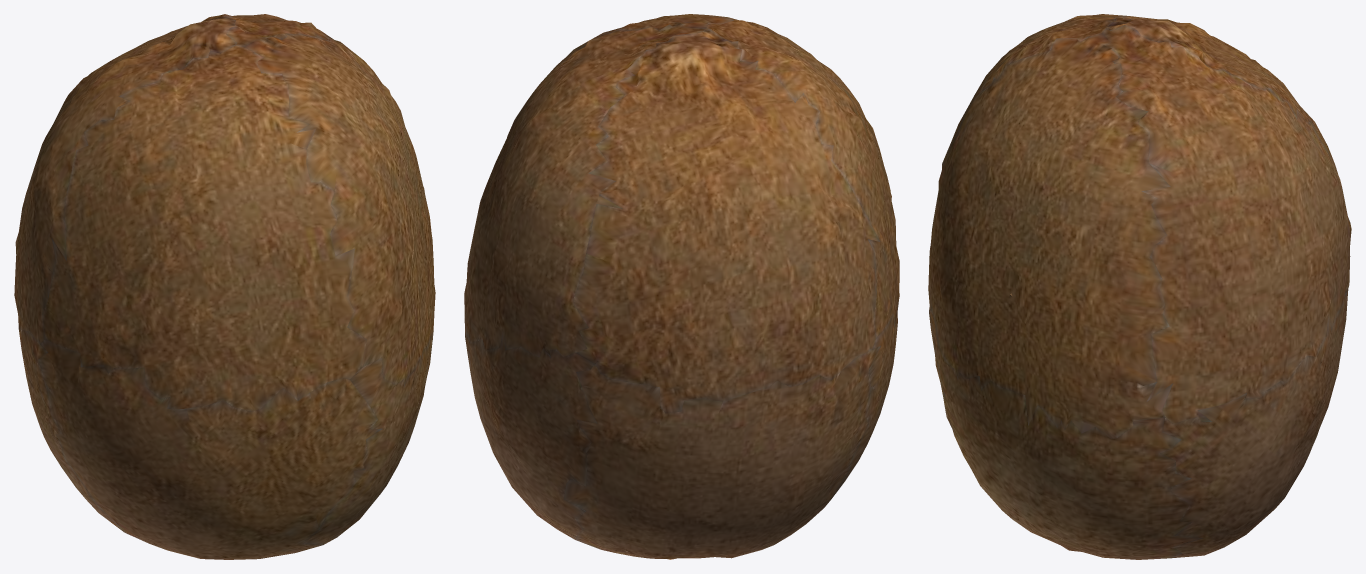
File: kiwi.glb
The picture shows the model from 3 angles, left to right: view 1: azimuth 30°, elevation 25°; view 2: azimuth 150°, elevation 25°; view 3: azimuth 270°, elevation 25°; orthographic projection.
Parts seen in each view (by area): view 1: kiwi; view 2: kiwi; view 3: kiwi.
Boxes of the visible parts, x1,y1,x2,y2 form: kiwi: (14,14,435,559); kiwi: (464,14,899,559); kiwi: (928,14,1351,559).
Size of the model in its own units: 0.0693 by 0.0898 by 0.0684.
Materials: 1 (1 with a texture image).
